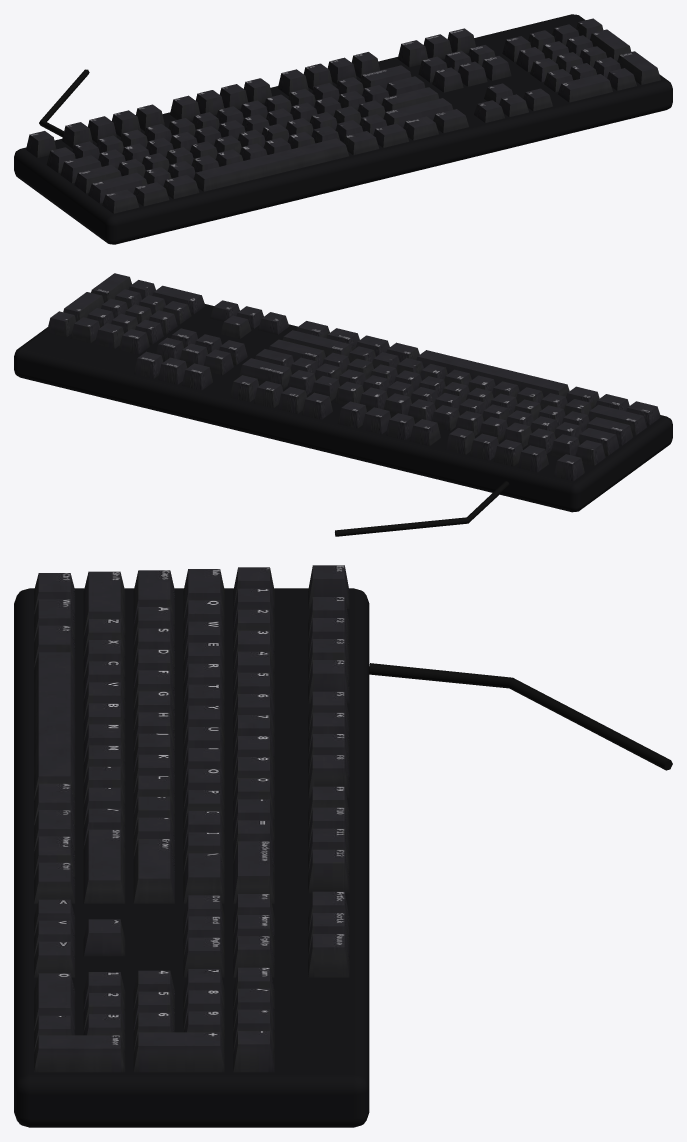
Rendered from Keyboard.obj.
The picture shows the model from 3 angles, top to bottom: view 1: azimuth 30°, elevation 25°; view 2: azimuth 150°, elevation 25°; view 3: azimuth 270°, elevation 25°; orthographic projection. The views are drawn at different scales.
Visible parts, largest first — view 1: Keyboard, Rubber; view 2: Keyboard, Rubber; view 3: Keyboard, Rubber.
Boxes of the visible parts, <box> form: Keyboard: <box>14,14,672,244</box>; Rubber: <box>39,69,89,137</box>; Keyboard: <box>14,273,672,512</box>; Rubber: <box>335,481,509,536</box>; Keyboard: <box>14,565,369,1127</box>; Rubber: <box>369,663,672,770</box>.
Bounding box in the file's own units: 0.449 × 0.0338 × 0.2512.
2 materials, 1 textured.
